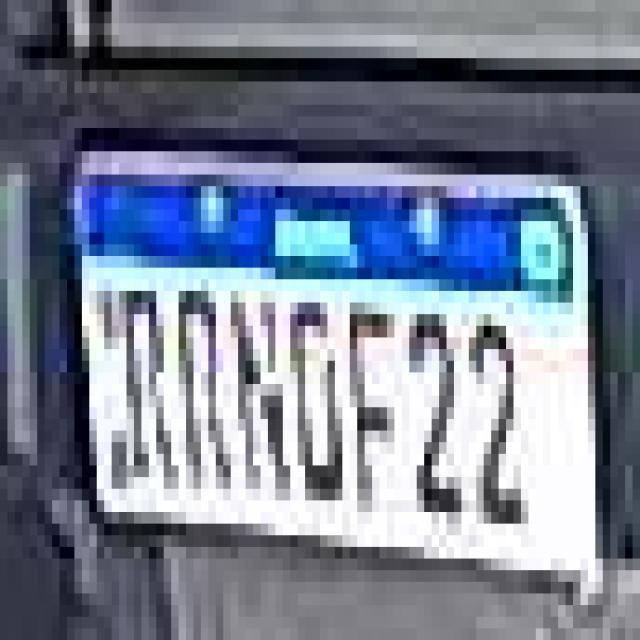0: (286, 292, 352, 502)
F: (346, 303, 401, 526)
N: (222, 288, 291, 496)
R: (112, 284, 177, 496), (168, 279, 232, 488)
